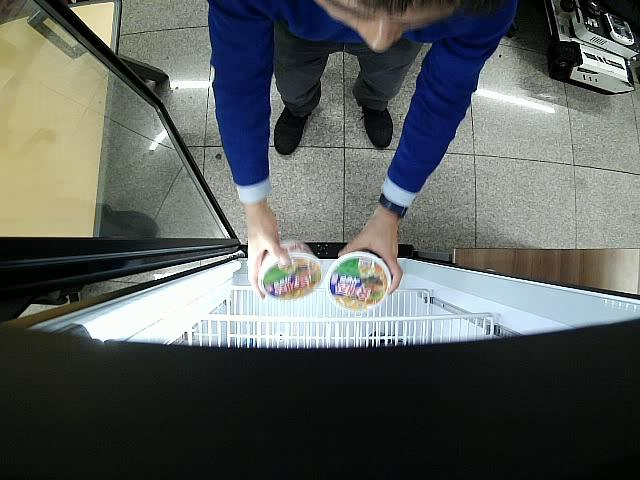00_hand: (339, 217, 403, 295), (245, 211, 290, 301)
09_yukGaeJang: (326, 250, 393, 312), (258, 241, 322, 299)
